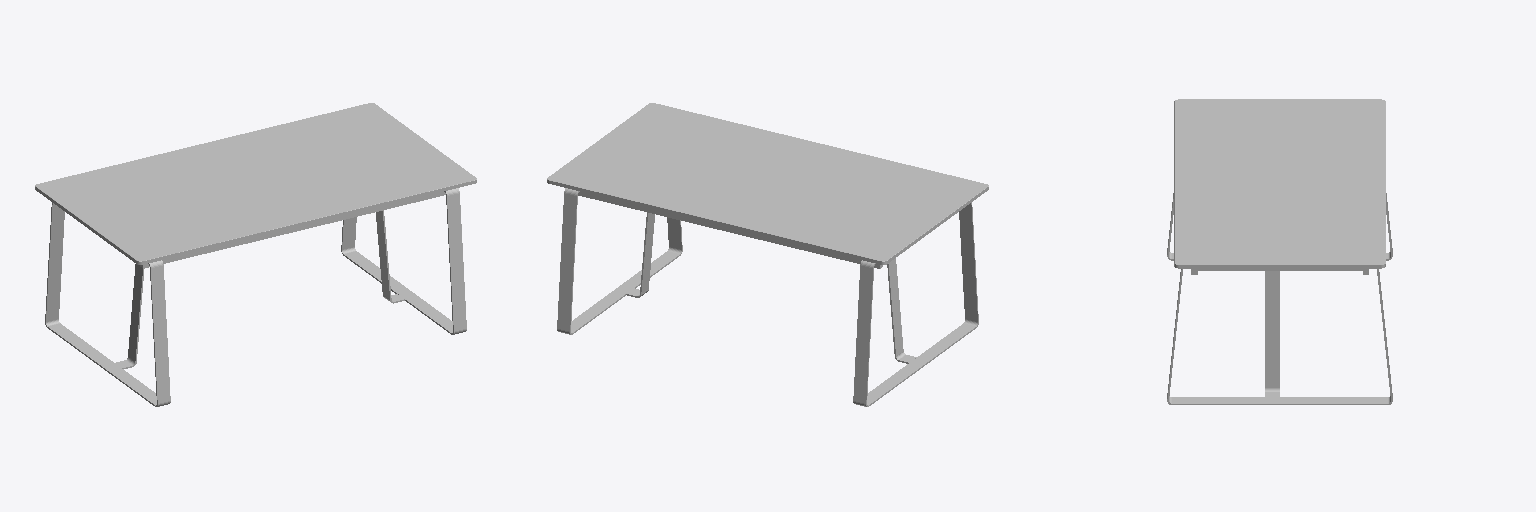
The model's file is bejot-stolik-VOO-VOO-VV-TS1.obj.
The picture shows the model from 3 angles: view 1: azimuth 30°, elevation 25°; view 2: azimuth 150°, elevation 25°; view 3: azimuth 270°, elevation 25°; orthographic projection.
Parts seen in each view (by area): view 1: st__-VOO-VOO-VV-TS1 Rectangle0, st__-VOO-VOO-VV-TS1 Rectangle1, st__-VOO-VOO-VV-TS1 Rectangle2; view 2: st__-VOO-VOO-VV-TS1 Rectangle0, st__-VOO-VOO-VV-TS1 Rectangle1, st__-VOO-VOO-VV-TS1 Rectangle2; view 3: st__-VOO-VOO-VV-TS1 Rectangle0, st__-VOO-VOO-VV-TS1 Rectangle1.
Part boxes in pixels (x1,y1,x2,y2): st__-VOO-VOO-VV-TS1 Rectangle0: (35, 103, 476, 264); st__-VOO-VOO-VV-TS1 Rectangle1: (45, 188, 466, 406); st__-VOO-VOO-VV-TS1 Rectangle2: (140, 192, 445, 268); st__-VOO-VOO-VV-TS1 Rectangle0: (547, 103, 988, 264); st__-VOO-VOO-VV-TS1 Rectangle1: (557, 188, 978, 406); st__-VOO-VOO-VV-TS1 Rectangle2: (578, 192, 882, 268); st__-VOO-VOO-VV-TS1 Rectangle0: (1174, 99, 1385, 268); st__-VOO-VOO-VV-TS1 Rectangle1: (1167, 193, 1392, 404).
Size of the model in its own units: 130 by 54 by 74.66.